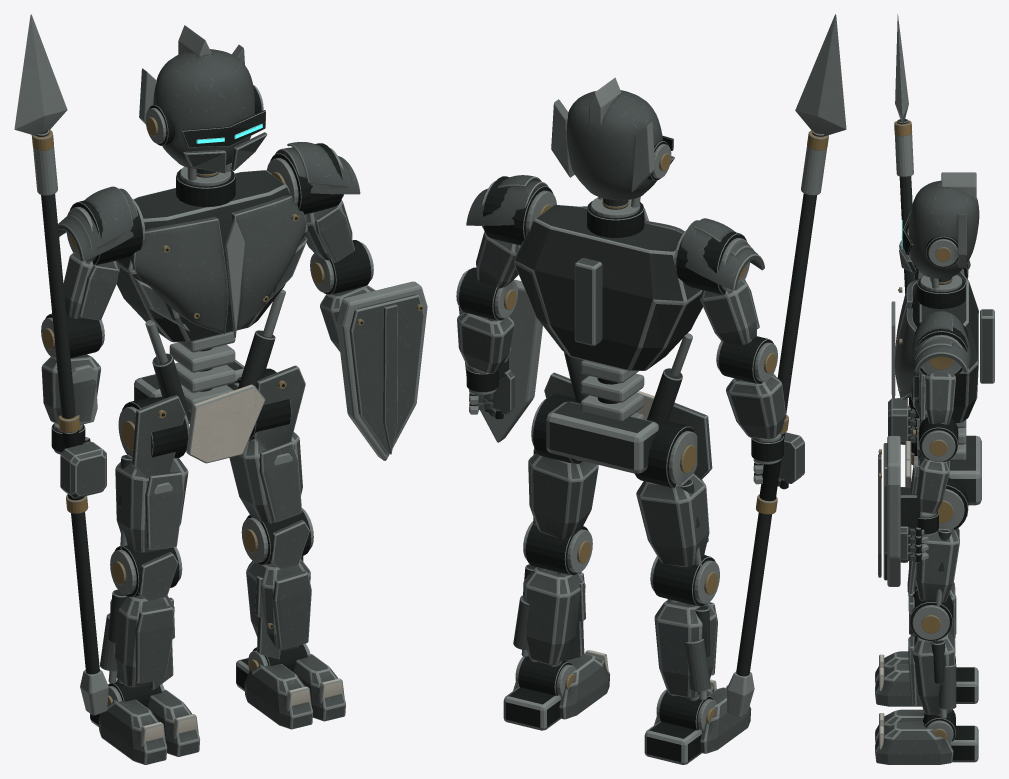
Rendered from speed-t4-duelist.glb.
The picture shows the model from 3 angles, left to right: view 1: azimuth 30°, elevation 25°; view 2: azimuth 150°, elevation 25°; view 3: azimuth 270°, elevation 25°; orthographic projection. The views are drawn at different scales.
Visible parts, largest first — view 1: chest__clay, weaponR__metal, pelvis__metal, chest__metal, pelvis__clay, head__clay, shieldL__clay, kneeR__clay, kneeL__clay, shoulderR__clay, ankleL__clay, ankleR__clay (+16 smaller); view 2: chest__metal, pelvis__metal, weaponR__metal, head__clay, kneeL__clay, shoulderR__clay, hipR__clay, kneeR__clay, hipL__clay, head__metal, shoulderL__clay, shieldL__metal (+18 smaller); view 3: chest__metal, head__clay, shoulderL__clay, ankleL__clay, kneeL__clay, pelvis__metal, chest__clay, shieldL__metal, weaponR__metal, head__metal, hipL__clay, kneeL__metal (+14 smaller).
Boxes of the visible parts, x1,y1,x2,y2 form: chest__clay: [131, 195, 307, 334]; weaponR__metal: [14, 14, 108, 715]; pelvis__metal: [118, 289, 291, 458]; chest__metal: [116, 166, 307, 342]; pelvis__clay: [132, 365, 305, 478]; head__clay: [153, 49, 267, 173]; shieldL__clay: [349, 294, 424, 454]; kneeR__clay: [100, 552, 178, 689]; kneeL__clay: [246, 520, 311, 659]; shoulderR__clay: [58, 186, 137, 320]; ankleL__clay: [244, 654, 345, 729]; ankleR__clay: [98, 689, 200, 764]; chest__metal: [514, 197, 702, 370]; pelvis__metal: [531, 333, 697, 488]; weaponR__metal: [727, 14, 846, 717]; head__clay: [566, 90, 674, 200]; kneeL__clay: [513, 567, 585, 665]; shoulderR__clay: [681, 218, 764, 344]; hipR__clay: [636, 473, 709, 567]; kneeR__clay: [654, 554, 717, 697]; hipL__clay: [528, 453, 598, 538]; head__metal: [551, 77, 673, 209]; shoulderL__clay: [466, 175, 548, 288]; shieldL__metal: [458, 269, 542, 442]; chest__metal: [891, 271, 978, 423]; head__clay: [899, 180, 979, 278]; shoulderL__clay: [912, 311, 970, 424]; ankleL__clay: [875, 709, 953, 764]; kneeL__clay: [908, 596, 956, 714]; pelvis__metal: [912, 409, 981, 529]; chest__clay: [894, 279, 994, 407]; shieldL__metal: [878, 436, 922, 586]; weaponR__metal: [894, 14, 916, 465]; head__metal: [901, 172, 976, 288]; hipL__clay: [907, 528, 959, 602]; kneeL__metal: [909, 590, 952, 718].
Bounding box in the file's own units: 2.83 × 5.14 × 0.8839.
11 materials, 10 textured.
